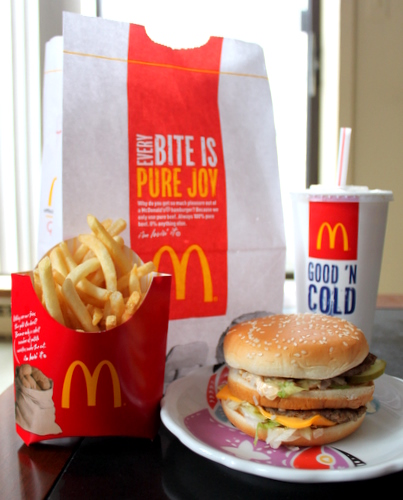mcdonalds: (60, 354, 132, 415), (305, 218, 361, 251)
